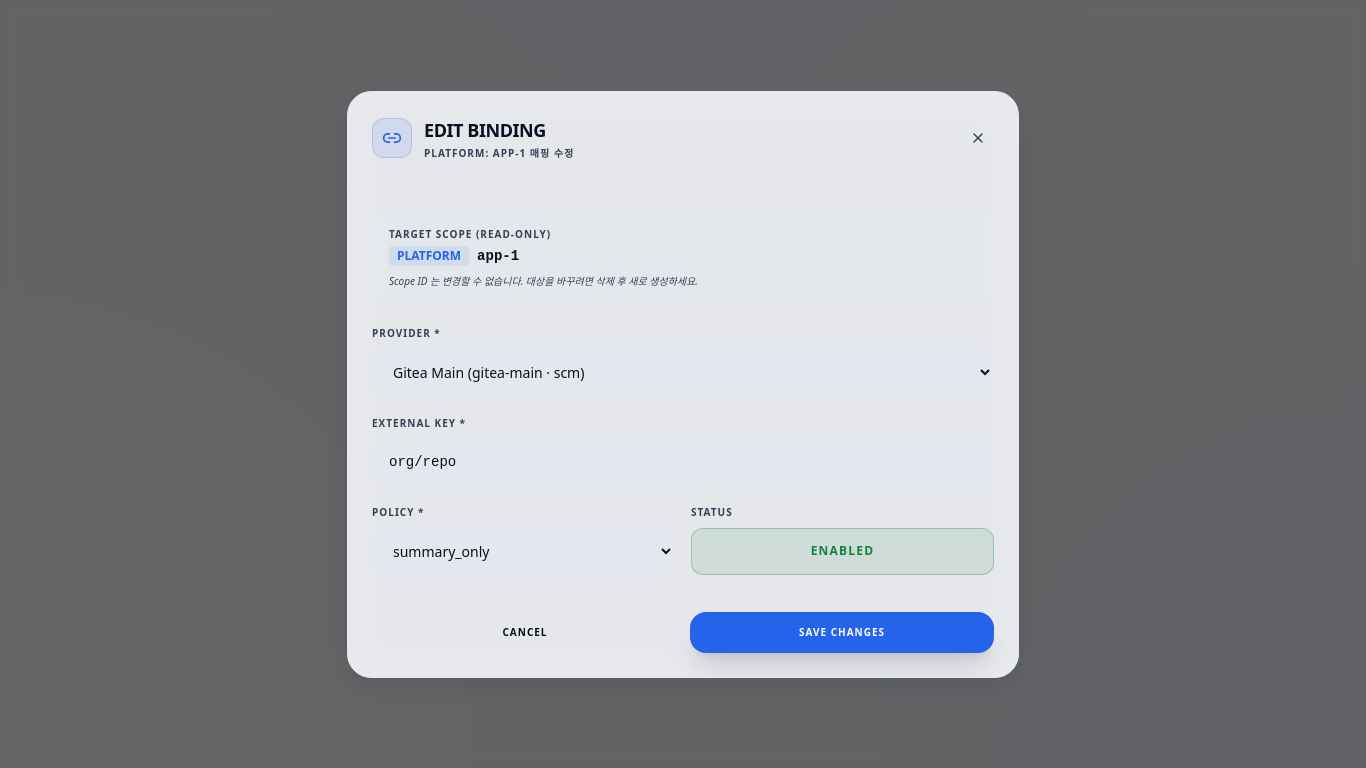
Test: EditBindingModal › shows 409 conflict error in Korean message
The image size is (1366, 768).
Step 1. Click the button "Save Changes" → (842, 632), box [690,612,994,652]
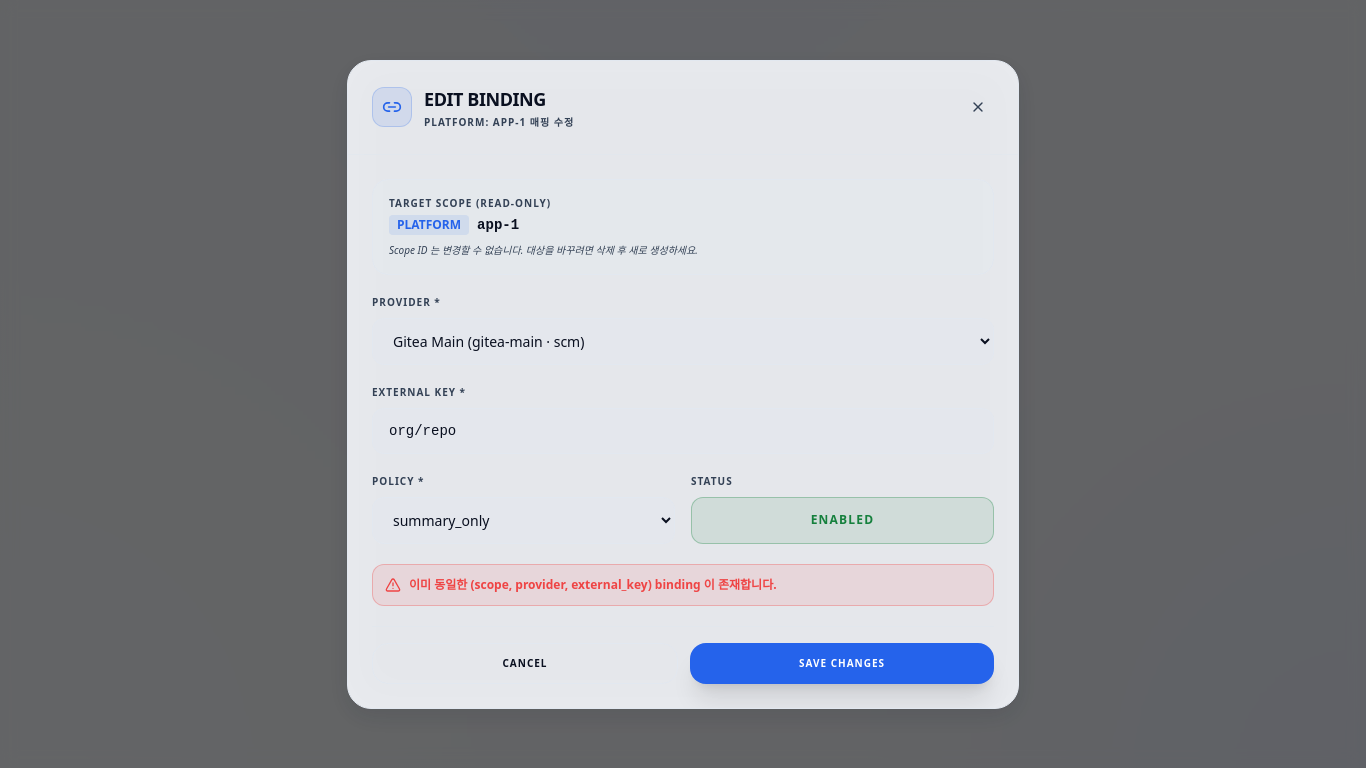
Result: the text "이미 동일한 (scope, provider, external_key) binding 이 존재합니다." is shown at [372,564,994,606]
